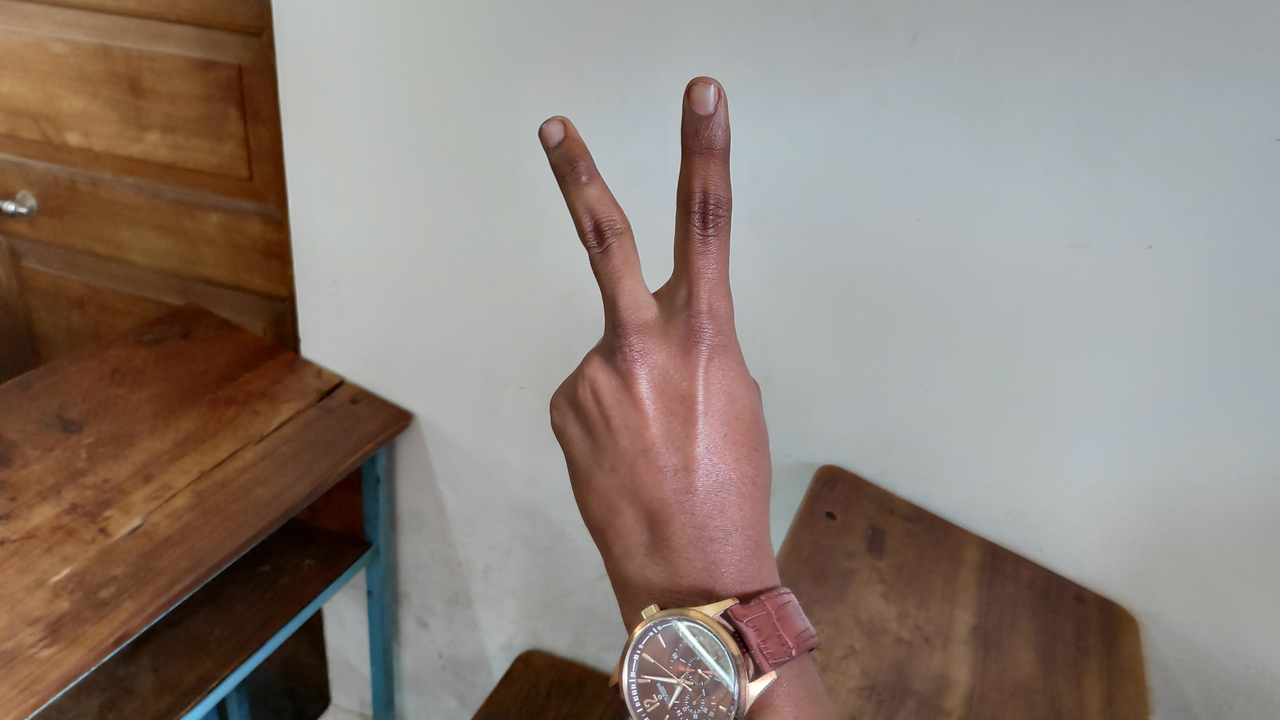fingertip: (676, 68, 736, 126), (530, 110, 592, 158)
